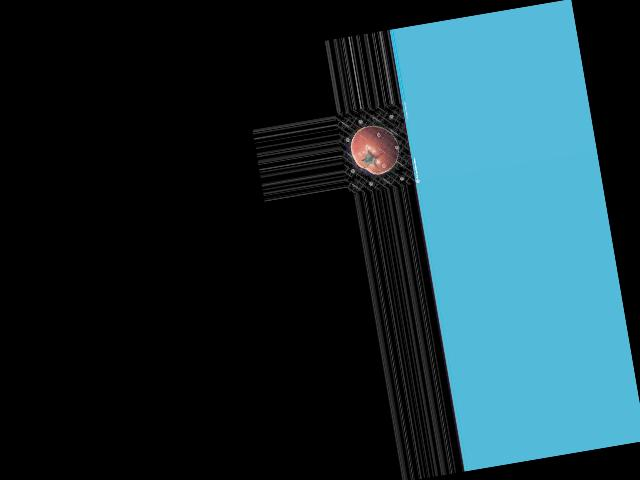tomato: (347, 121, 402, 178)
